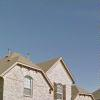Chimney: (5, 44, 18, 60)
